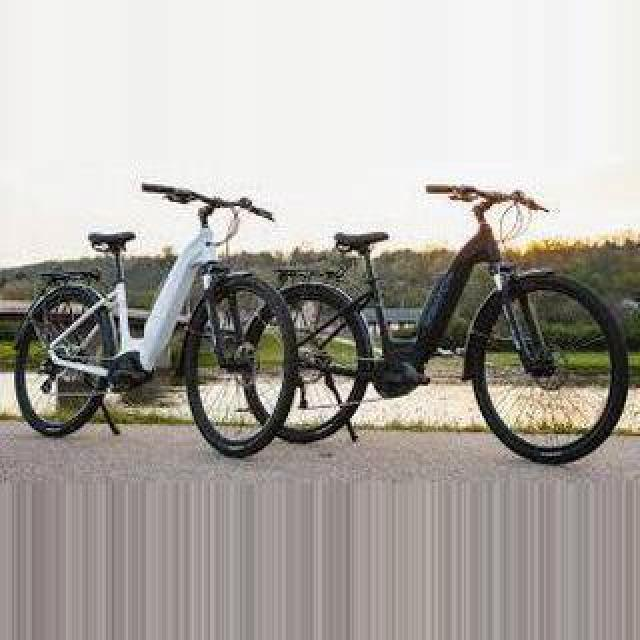Person: (241, 183, 627, 465), (14, 181, 300, 457)
